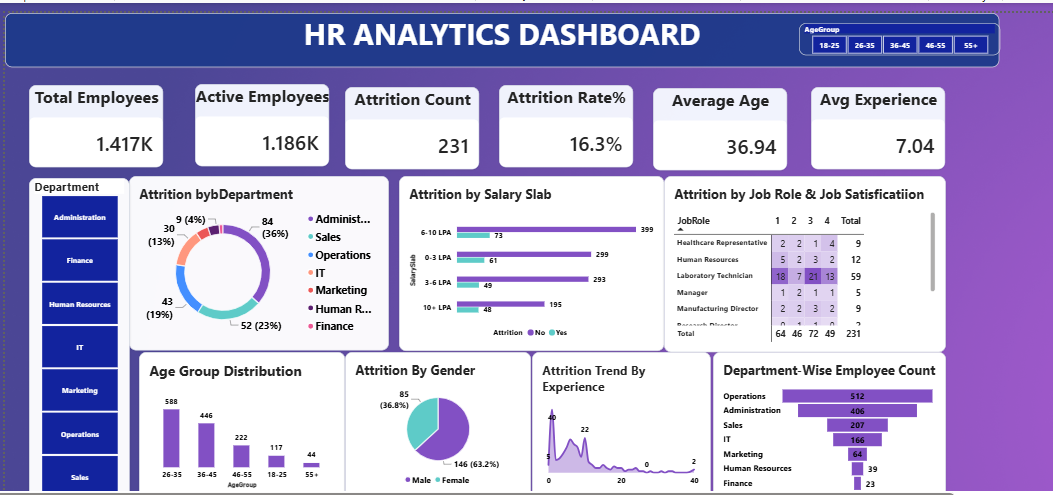

The page's visual inventory and layout, read from the dashboard file:
{"tool":"powerbi","page":{"name":"Page 1","canvas":[1920,1080],"ordinal":0},"visuals":[{"type":"textbox","box":[0,0,1630.4,89.3],"z":0},{"type":"cardVisual","title":"Average Age","fields":{"Data":["Avg(HR_Analytics-4.Age)"]},"box":[1062.7,123.1,220,135],"z":1000},{"type":"cardVisual","title":"Total Employees","fields":{"Data":["CountNonNull(HR_Analytics-4.EmpID)"]},"box":[38.9,118.8,220,135],"z":2000},{"type":"cardVisual","title":"Active Employees","fields":{"Data":["CountNonNull(HR_Analytics-4.EmployeeCount)"]},"box":[311,116.6,220,135],"z":3000},{"type":"cardVisual","title":"Attrition Count","fields":{"Data":["Sum(HR_Analytics-4.AttribitionCount)"]},"box":[557.3,121,220,135],"z":4000},{"type":"cardVisual","title":"Attrition Rate%","fields":{"Data":["HR_Analytics-4.Attrition Rate %"]},"box":[810,118.8,220,135],"z":5000},{"type":"cardVisual","title":"Avg Experience","fields":{"Data":["Avg(HR_Analytics-4.YearsatCompany)"]},"box":[1321.9,121,220,135],"z":6000},{"type":"donutChart","title":"Attrition bybDepartment","fields":{"Category":["HR_Analytics-4.Department"],"Y":["Sum(HR_Analytics-4.AttribitionCount)"]},"box":[203.4,267.2,426,286],"z":7000},{"type":"clusteredBarChart","title":"Attrition by Salary Slab","fields":{"Category":["HR_Analytics-4.SalarySlab"],"Series":["HR_Analytics-4.Attrition"],"Y":["CountNonNull(HR_Analytics-4.EmpID)"]},"box":[645.5,267.3,434.5,287.3],"z":8000},{"type":"pivotTable","title":"Attrition by Job Role & Job Satisficatiion","fields":{"Columns":["HR_Analytics-4.JobSatisfaction"],"Rows":["HR_Analytics-4.JobRole"],"Values":["Sum(HR_Analytics-4.AttribitionCount)"]},"box":[1080,267.3,461.8,289.1],"z":9000},{"type":"columnChart","title":"Age Group Distribution","fields":{"Category":["HR_Analytics-4.AgeGroup"],"Y":["Sum(HR_Analytics-4.EmployeeCount)"]},"box":[220,556.4,338.2,240],"z":10000},{"type":"pieChart","title":"Attrition By Gender","fields":{"Category":["HR_Analytics-4.Gender"],"Y":["Sum(HR_Analytics-4.AttribitionCount)"]},"box":[558.2,556.4,305.5,240],"z":11000},{"type":"areaChart","title":"Attrition Trend By Experience","fields":{"Category":["HR_Analytics-4.TotalExperience(Years)"],"Y2":["Sum(HR_Analytics-4.AttribitionCount)"]},"box":[863.6,556.4,292.7,240],"z":12000},{"type":"funnel","title":"Department-Wise Employee Count","fields":{"Category":["HR_Analytics-4.Department"],"Y":["CountNonNull(HR_Analytics-4.EmpID)"]},"box":[1160,556.4,381.8,245.5],"z":13000},{"type":"slicer","fields":{"Values":["HR_Analytics-4.Department"]},"box":[38.6,270.2,164.9,526.3],"z":14000},{"type":"slicer","fields":{"Values":["HR_Analytics-4.AgeGroup"]},"box":[1301.6,16.4,330,53.3],"z":15000}]}

Visuals, with their boxes on the page's 1920x1080 design canvas (x1, y1, x2, y2). These are canvas units, not pixel positions in the 1053x495 screenshot, which may show the page scaled, cropped or inside an application window:
textbox: [x1=0, y1=0, x2=1630, y2=89]
"Average Age" cardVisual: [x1=1063, y1=123, x2=1283, y2=258]
"Total Employees" cardVisual: [x1=39, y1=119, x2=259, y2=254]
"Active Employees" cardVisual: [x1=311, y1=117, x2=531, y2=252]
"Attrition Count" cardVisual: [x1=557, y1=121, x2=777, y2=256]
"Attrition Rate%" cardVisual: [x1=810, y1=119, x2=1030, y2=254]
"Avg Experience" cardVisual: [x1=1322, y1=121, x2=1542, y2=256]
"Attrition bybDepartment" donutChart: [x1=203, y1=267, x2=629, y2=553]
"Attrition by Salary Slab" clusteredBarChart: [x1=646, y1=267, x2=1080, y2=555]
"Attrition by Job Role & Job Satisficatiion" pivotTable: [x1=1080, y1=267, x2=1542, y2=556]
"Age Group Distribution" columnChart: [x1=220, y1=556, x2=558, y2=796]
"Attrition By Gender" pieChart: [x1=558, y1=556, x2=864, y2=796]
"Attrition Trend By Experience" areaChart: [x1=864, y1=556, x2=1156, y2=796]
"Department-Wise Employee Count" funnel: [x1=1160, y1=556, x2=1542, y2=802]
slicer - HR_Analytics-4.Department: [x1=39, y1=270, x2=204, y2=796]
slicer - HR_Analytics-4.AgeGroup: [x1=1302, y1=16, x2=1632, y2=70]
